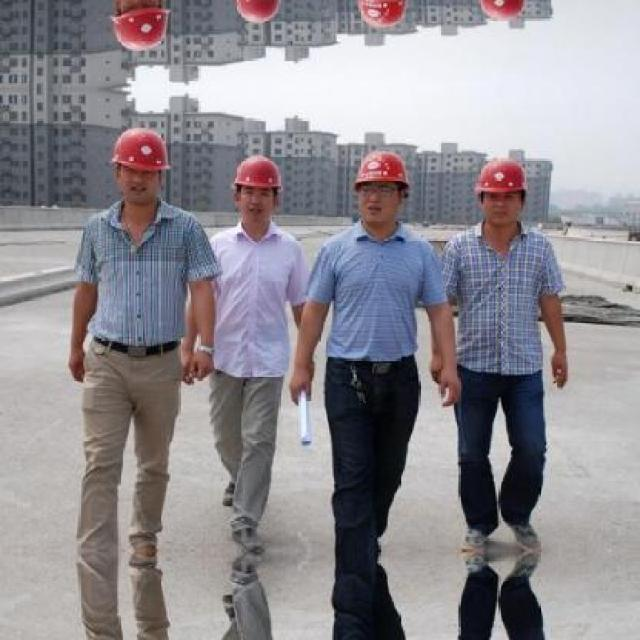helmet: (344, 140, 416, 234), (106, 118, 174, 211), (228, 143, 286, 229), (470, 150, 530, 232), (106, 0, 175, 58), (344, 0, 417, 35), (228, 0, 288, 34), (469, 0, 531, 28)
